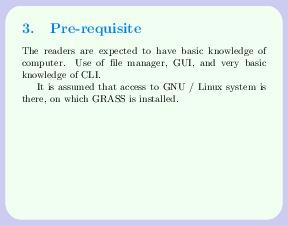paragraph: (16, 43, 276, 106)
title: (46, 18, 147, 40)
